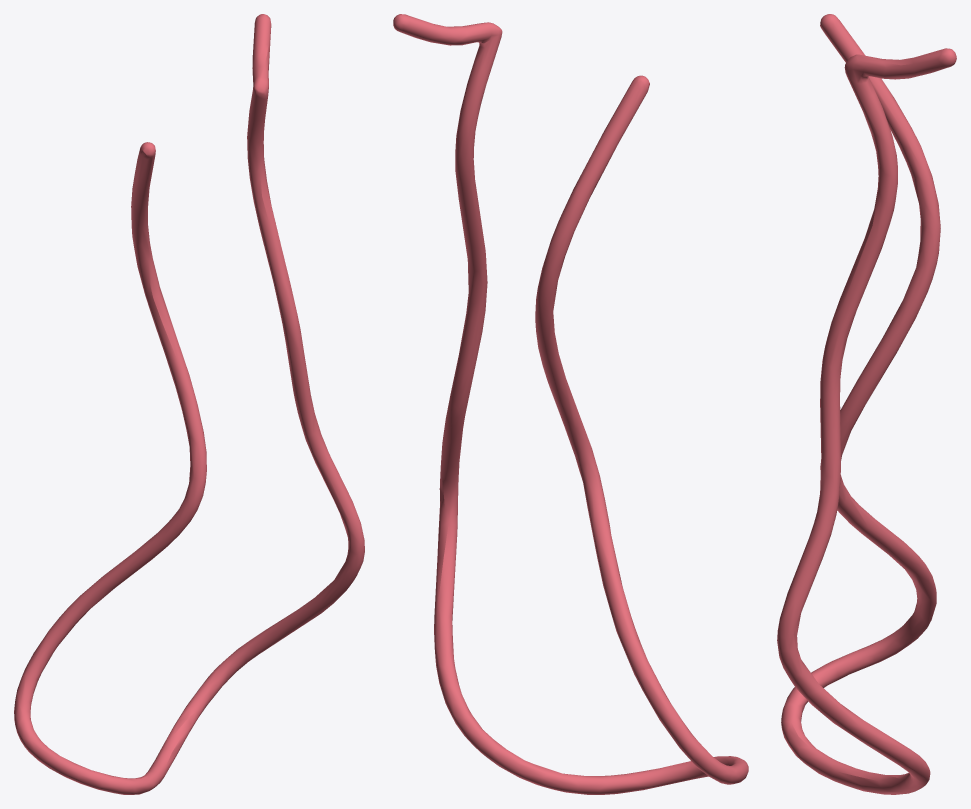
File: fma22916_fj2249.glb
3 renders of one model, left to right at view 1: azimuth 30°, elevation 25°; view 2: azimuth 150°, elevation 25°; view 3: azimuth 270°, elevation 25°, orthographic. The views are drawn at different scales.
Visible parts, largest first — view 1: FMA22916_FJ2249; view 2: FMA22916_FJ2249; view 3: FMA22916_FJ2249.
Boxes of the visible parts, bbox=[...] form: FMA22916_FJ2249: bbox=[14, 14, 364, 794]; FMA22916_FJ2249: bbox=[393, 14, 748, 794]; FMA22916_FJ2249: bbox=[777, 14, 956, 794].
Size of the model in its own units: 0.0305 by 0.0668 by 0.0133.
